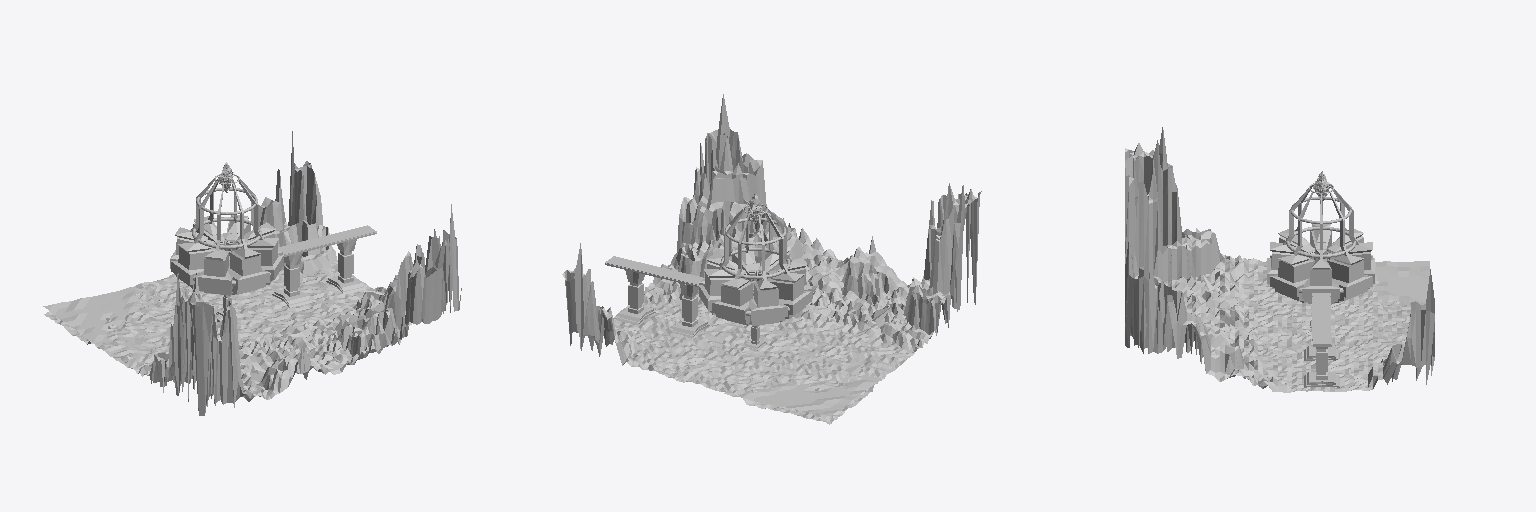
File: Level.obj
The picture shows the model from 3 angles: view 1: azimuth 30°, elevation 25°; view 2: azimuth 150°, elevation 25°; view 3: azimuth 270°, elevation 25°; orthographic projection.
Parts seen in each view (by area): view 1: Plane, Cube.002_Cube.003, Cube.005_Cube.009, Cube.002_Cube.008; view 2: Plane, Cube.002_Cube.003, Cube.005_Cube.009, Cube.002_Cube.008; view 3: Plane, Cube.002_Cube.003, Cube.005_Cube.009.
Part boxes in pixels (x1,y1,x2,y2): Plane: (43,131,461,415); Cube.002_Cube.003: (170,174,283,295); Cube.005_Cube.009: (326,239,365,294); Cube.002_Cube.008: (272,253,311,307); Plane: (562,94,981,424); Cube.002_Cube.003: (699,204,812,325); Cube.005_Cube.009: (616,270,655,324); Cube.002_Cube.008: (671,283,709,338); Plane: (1125,127,1434,392); Cube.002_Cube.003: (1267,183,1374,303); Cube.005_Cube.009: (1304,347,1339,387).
Bounding box in the file's own units: 83.03 × 46.58 × 81.25.